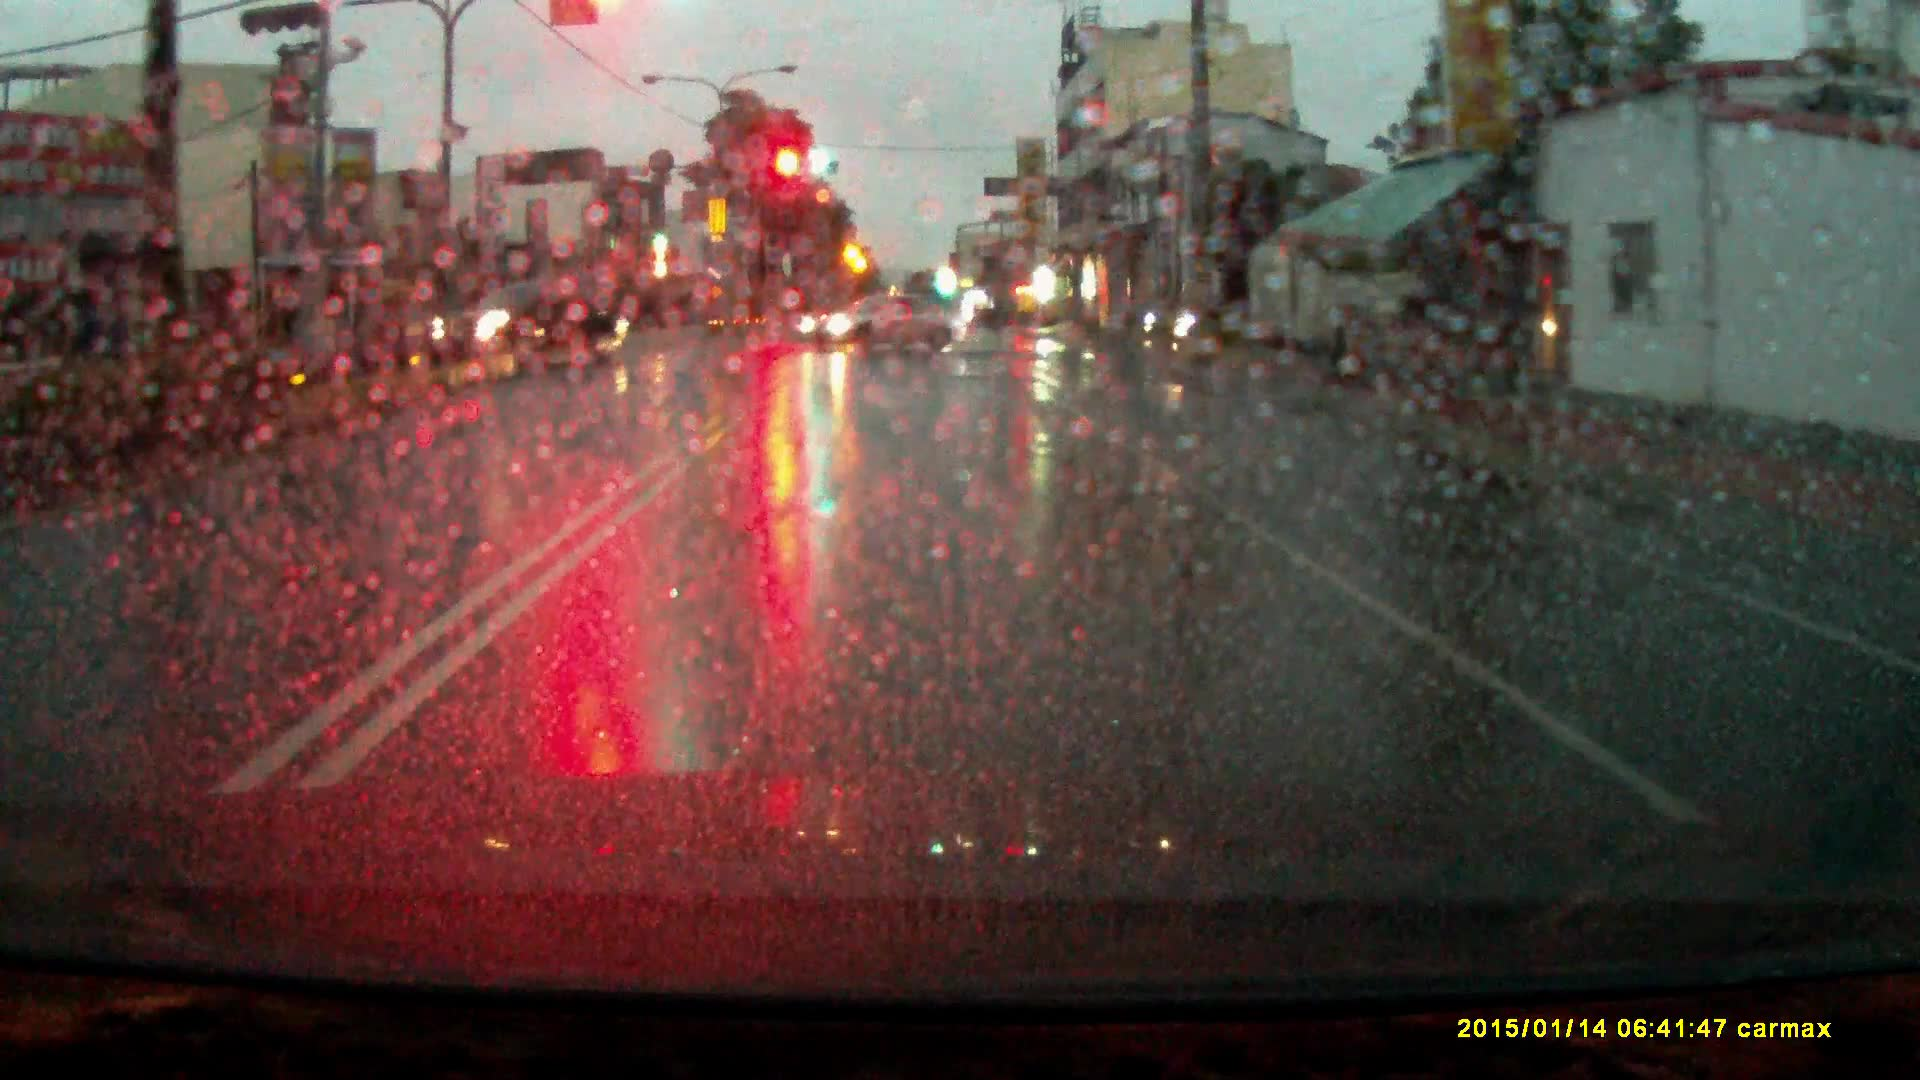vehicle: (425, 276, 632, 368), (798, 290, 965, 356)
